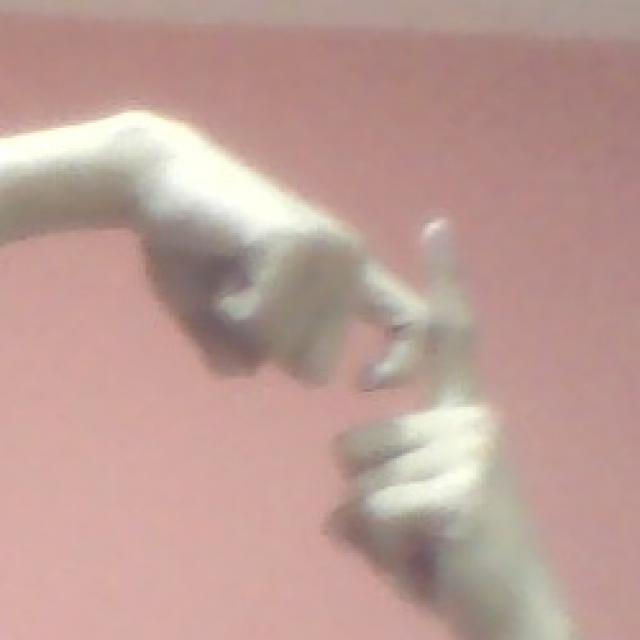Alphabet-K: (137, 106, 563, 640)
